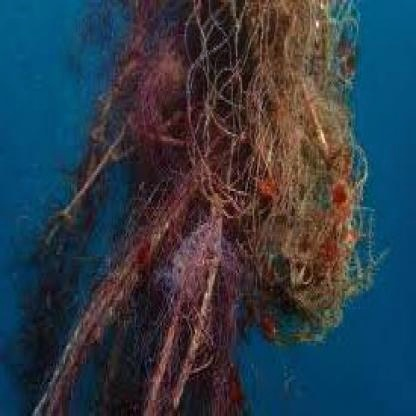net: (32, 2, 368, 416)
